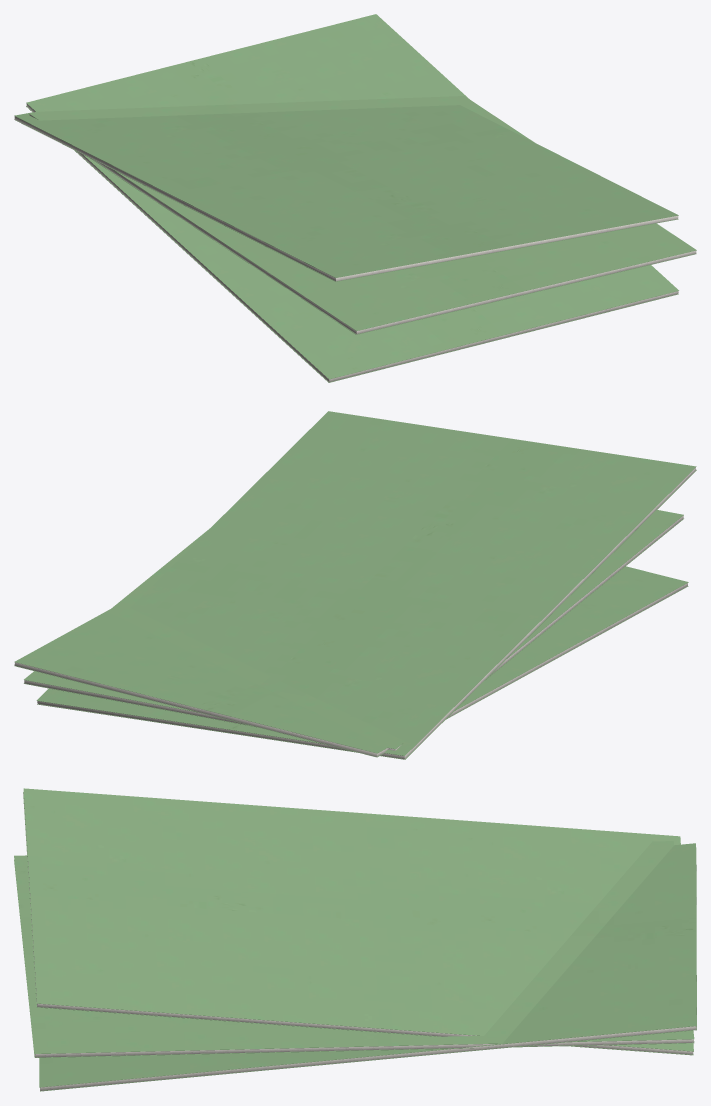
File: ALV-DRY-002_anim.glb
The picture shows the model from 3 angles, top to bottom: view 1: azimuth 30°, elevation 25°; view 2: azimuth 150°, elevation 25°; view 3: azimuth 270°, elevation 25°; orthographic projection. The views are drawn at different scales.
Visible parts, largest first — view 1: ALV-DRY-002_anim2, ALV-DRY-002_anim0, ALV-DRY-002_anim1; view 2: ALV-DRY-002_anim2, ALV-DRY-002_anim0, ALV-DRY-002_anim1; view 3: ALV-DRY-002_anim2, ALV-DRY-002_anim0, ALV-DRY-002_anim1.
Part boxes in pixels (x1=…): ALV-DRY-002_anim2: x1=14, y1=105, x2=678, y2=281; ALV-DRY-002_anim0: x1=26, y1=14, x2=678, y2=382; ALV-DRY-002_anim1: x1=29, y1=96, x2=696, y2=334; ALV-DRY-002_anim2: x1=36, y1=411, x2=696, y2=759; ALV-DRY-002_anim0: x1=14, y1=566, x2=688, y2=757; ALV-DRY-002_anim1: x1=24, y1=510, x2=683, y2=750; ALV-DRY-002_anim2: x1=23, y1=788, x2=693, y2=1055; ALV-DRY-002_anim0: x1=39, y1=843, x2=696, y2=1091; ALV-DRY-002_anim1: x1=14, y1=841, x2=694, y2=1057.
Bounding box in the file's own units: 1.32 × 0.3614 × 1.86.
2 materials, 2 textured.
